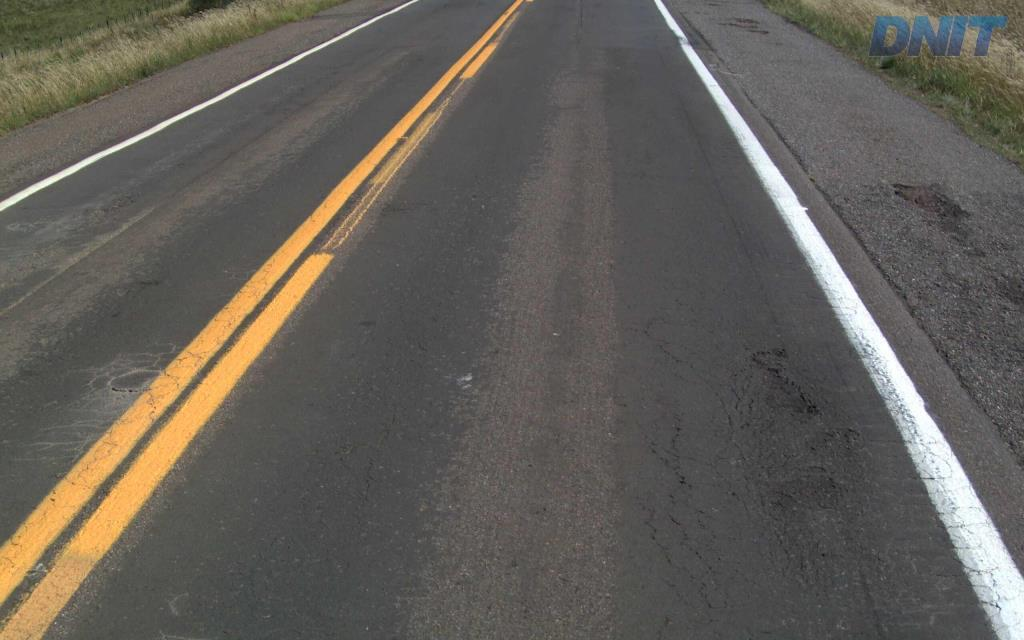crack: (786, 385, 822, 419)
